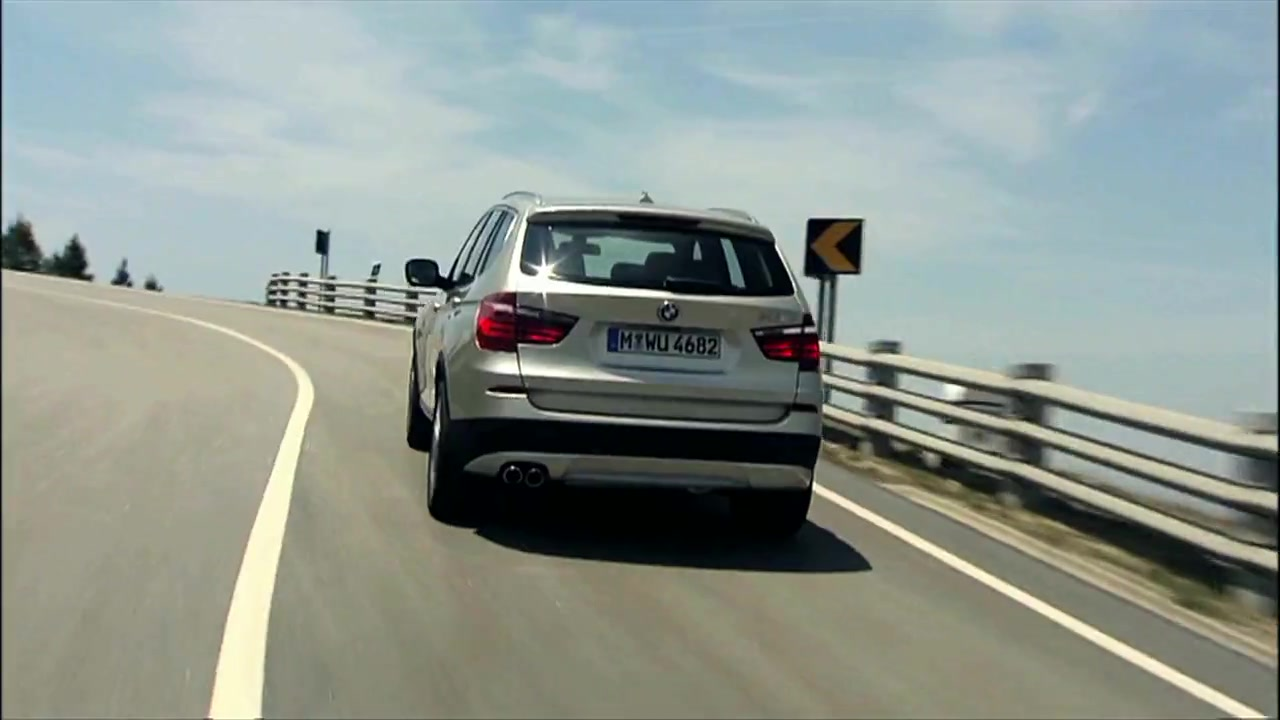car: (403, 188, 831, 540)
